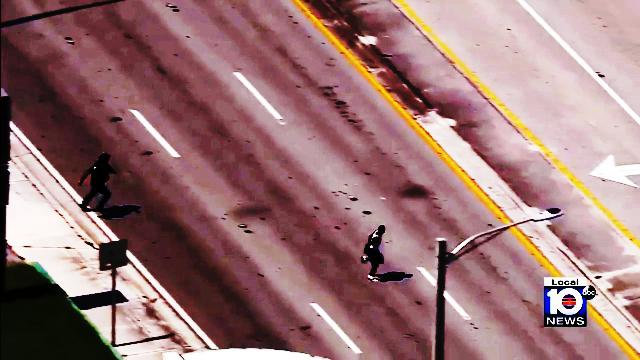berlari: (78, 149, 118, 217), (362, 223, 392, 283)
